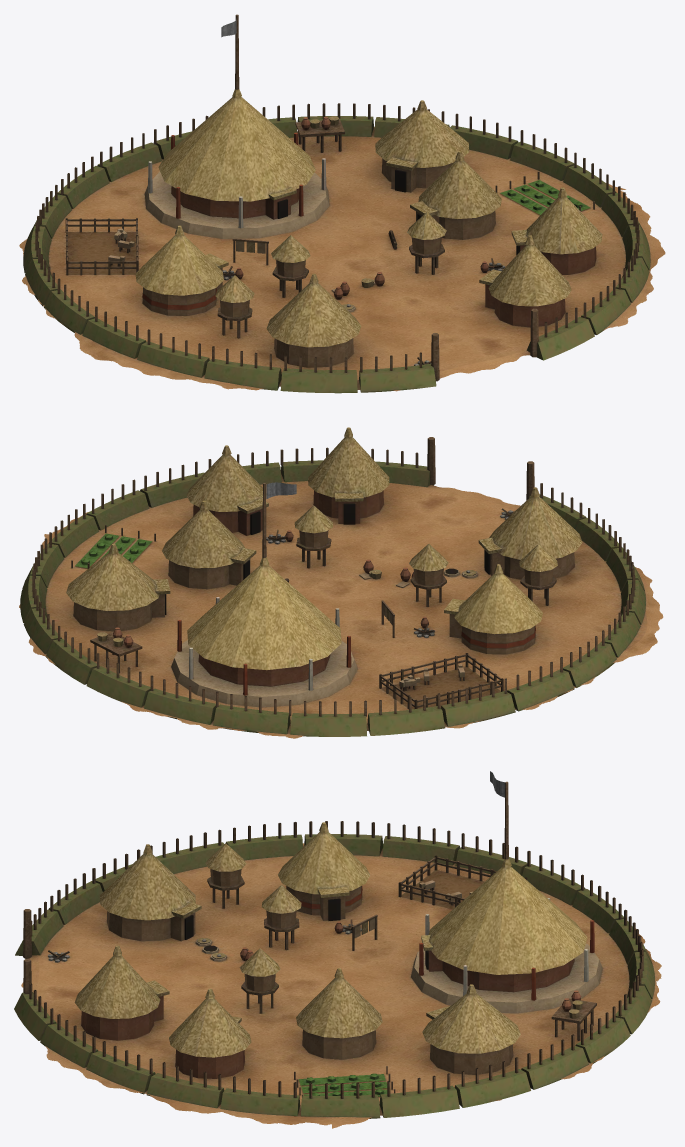
Rendered from stone-town-small-b.glb.
3 renders of one model, top to bottom at view 1: azimuth 30°, elevation 25°; view 2: azimuth 150°, elevation 25°; view 3: azimuth 270°, elevation 25°, orthographic. The views are drawn at different scales.
Parts seen in each view (by area): view 1: LOD0; view 2: LOD0; view 3: LOD0.
Boxes of the visible parts, x1,y1,x2,y2 form: LOD0: (19,14,665,393); LOD0: (19,427,663,738); LOD0: (14,771,661,1128).
Size of what is drawn, in the model's own units: 4.03 by 1.25 by 3.81.
3 materials, 3 textured.
